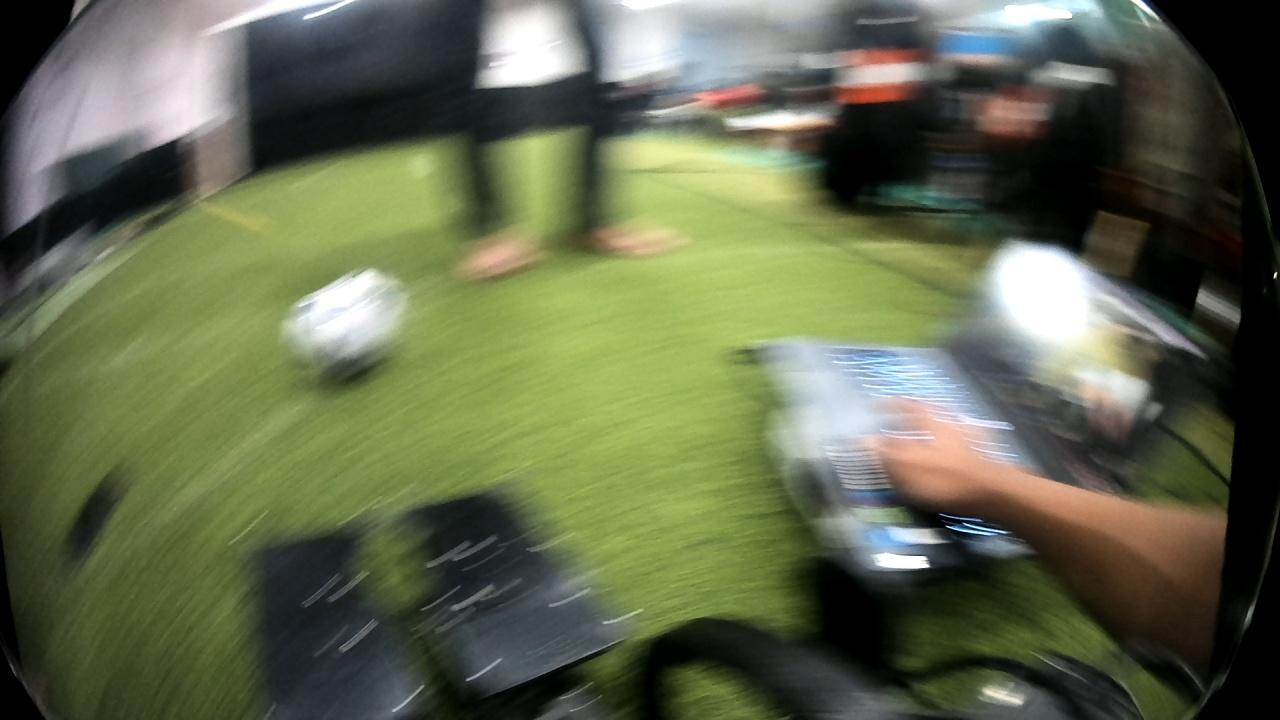ball: (268, 254, 414, 398)
